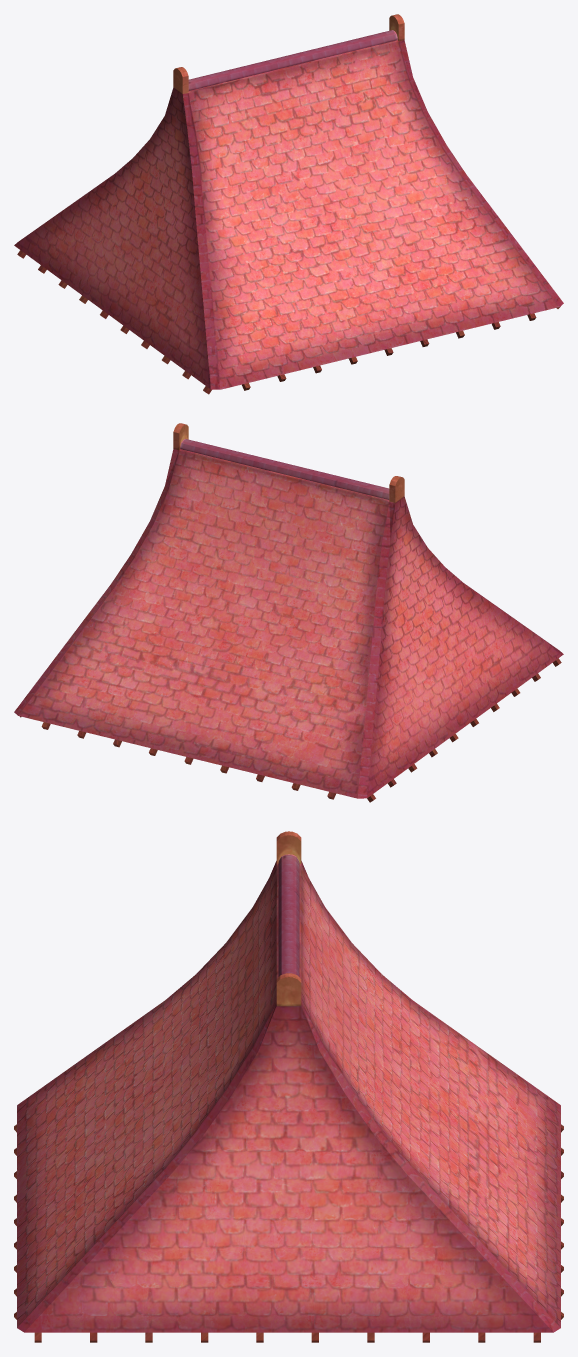
The model's file is sb_obj_outdoor024_PrincessCastle01_roof00.fbx.
The picture shows the model from 3 angles, top to bottom: view 1: azimuth 30°, elevation 25°; view 2: azimuth 150°, elevation 25°; view 3: azimuth 270°, elevation 25°; orthographic projection. The views are drawn at different scales.
Parts seen in each view (by area): view 1: sb_obj_outdoor024_PrincessCastle01_roof00; view 2: sb_obj_outdoor024_PrincessCastle01_roof00; view 3: sb_obj_outdoor024_PrincessCastle01_roof00.
Boxes of the visible parts, box(x1,y1,x2,y2) form: sb_obj_outdoor024_PrincessCastle01_roof00: box(14, 14, 563, 394); sb_obj_outdoor024_PrincessCastle01_roof00: box(14, 423, 563, 802); sb_obj_outdoor024_PrincessCastle01_roof00: box(14, 831, 563, 1342).
Size of the model in its own units: 9.98 by 6.44 by 9.92.
